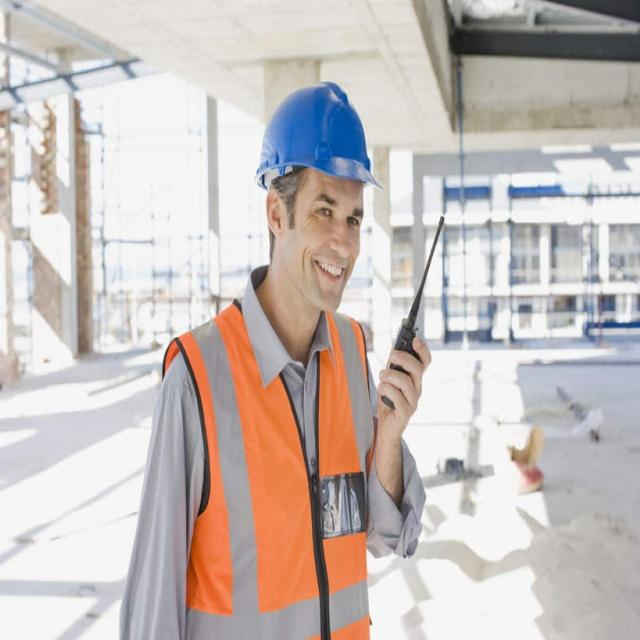helmet: (253, 111, 385, 417)
vest: (157, 395, 376, 640)
